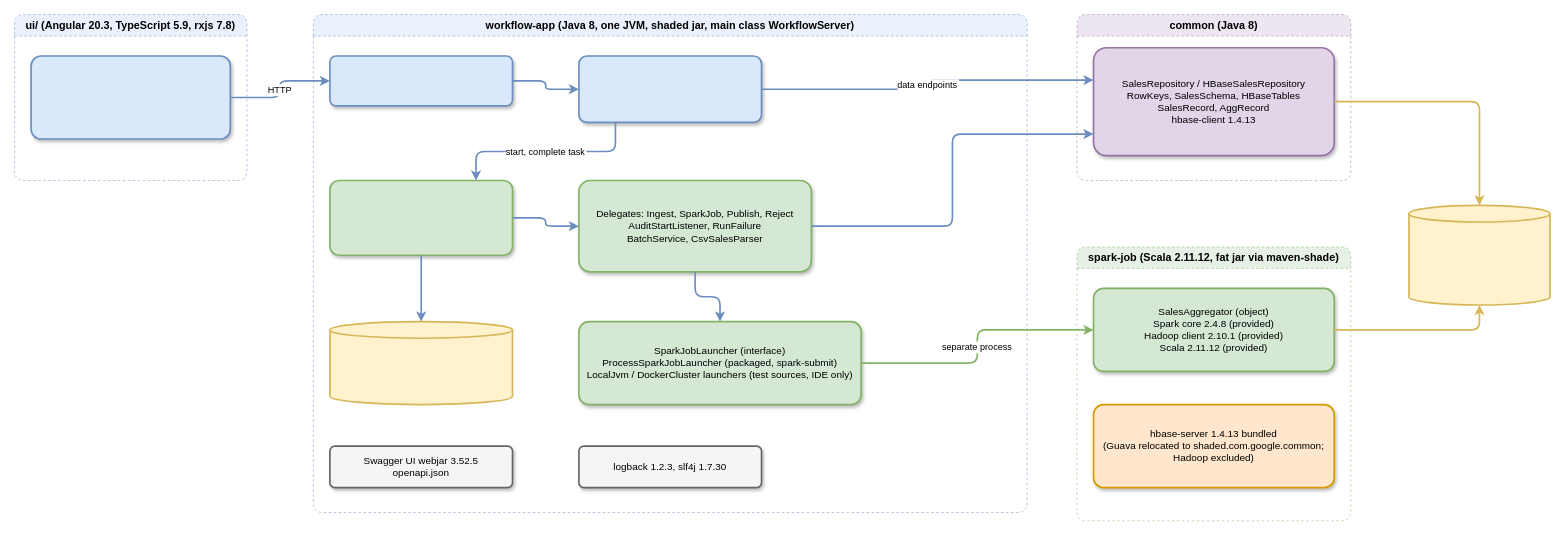
This 1565x535 diagram has some shape labels left out. The shapes that lost their labels are listed below. From the top down, each one's centre as x and y in pixels, then its label:
pixel 131 98: Upload, status polling (2 s), approve/reject, HBase data tables
pixel 421 81: Jetty 9.4.44.v20210927 (embedded, jetty-servlet)
pixel 670 90: Spring MVC 4.3.30 BatchController, DataController Jackson 2.9.10.8
pixel 421 218: Activiti 5.22.0 BPMN engine + job executor process salesBatch
pixel 1479 254: HBase 1.4.13 sales_raw, sales_agg, batch_audit
pixel 421 362: Workflow DB H2 1.4.197 (memory/file) or Postgres JDBC 42.7.4
